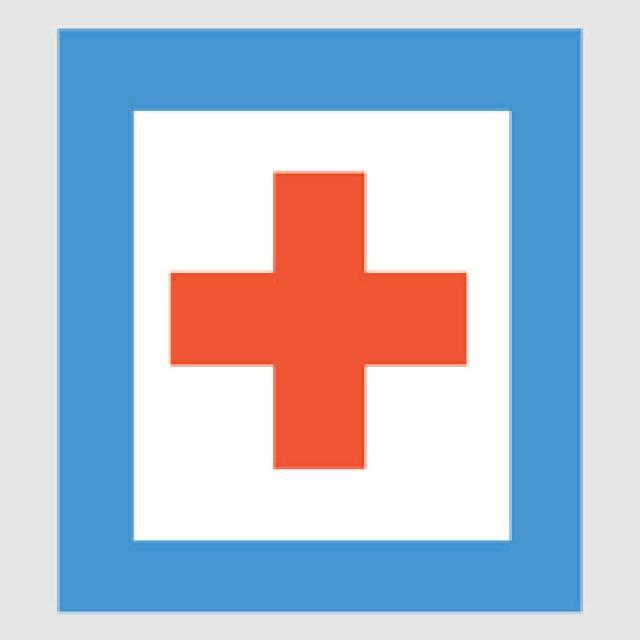hospital ahead: (61, 33, 578, 609)
